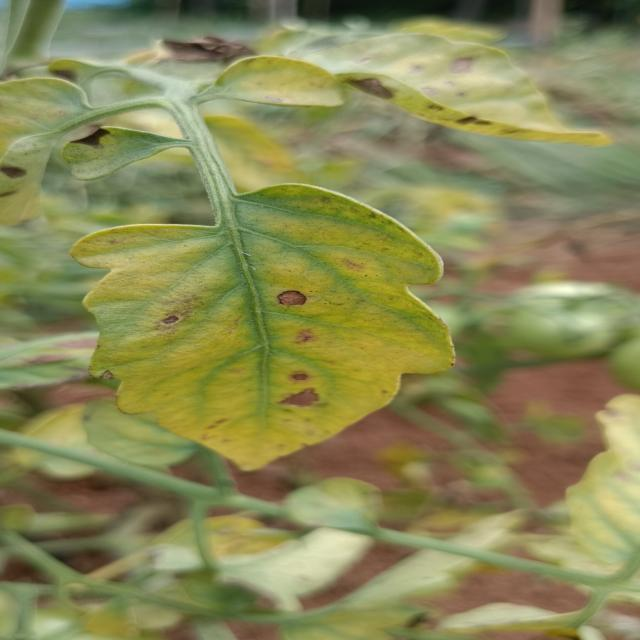tomato_early blight: (81, 176, 453, 473), (196, 24, 610, 152), (0, 66, 150, 216), (214, 49, 350, 108)
